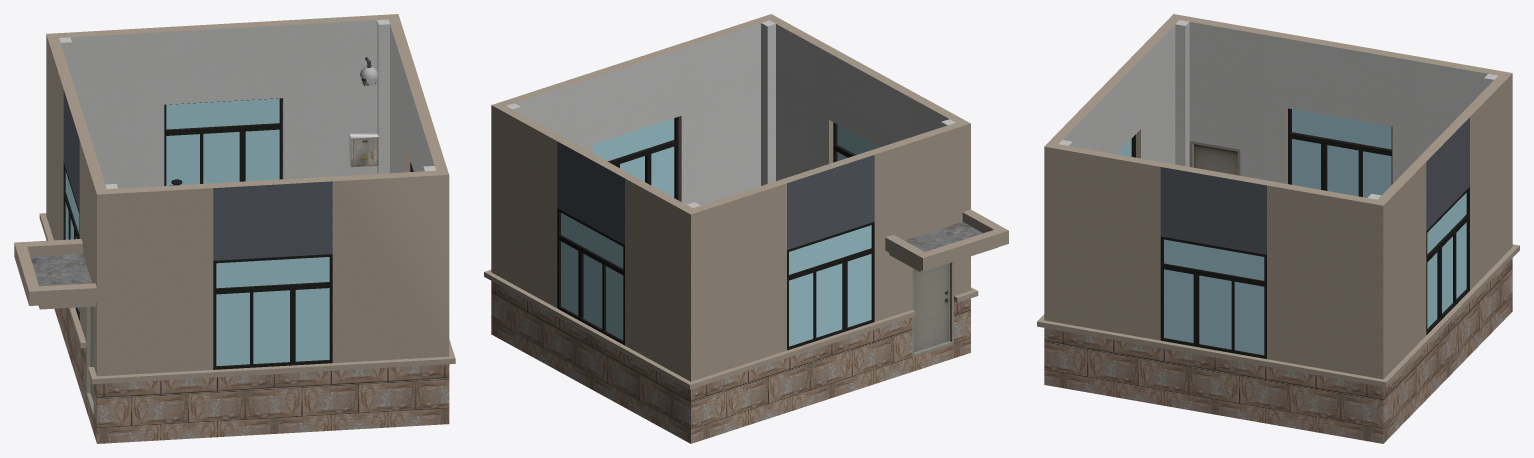
File: zysbf.glb
3 views of the same model, side by side, from view 1: azimuth 30°, elevation 25°; view 2: azimuth 150°, elevation 25°; view 3: azimuth 270°, elevation 25° (orthographic). The views are drawn at different scales.
Parts seen in each view (by area): view 1: ZYSBF, ZYSBF_SB_31; view 2: ZYSBF; view 3: ZYSBF.
Part boxes in pixels (box(x1,y1,x2,y2)): ZYSBF: box(14, 14, 455, 443); ZYSBF_SB_31: box(349, 132, 378, 167); ZYSBF: box(484, 14, 1008, 443); ZYSBF: box(1037, 14, 1519, 443).
Size of the model in its own units: 9.52 by 4.8 by 8.82.
55 materials, 55 textured.
